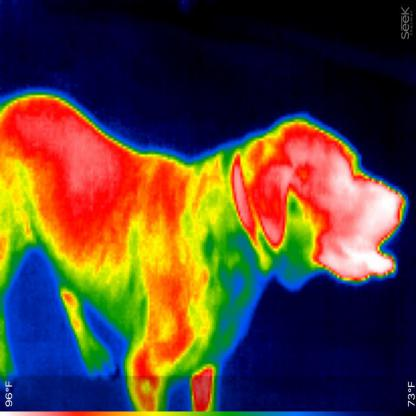dog: (0, 86, 406, 410)
